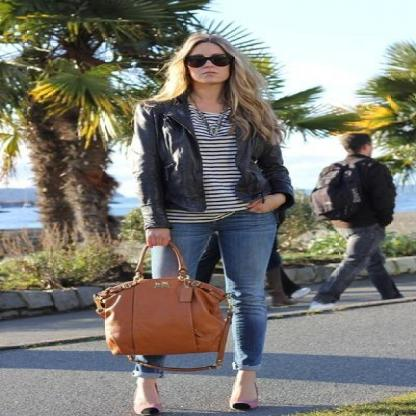bag: (92, 275, 231, 357)
jacket: (122, 96, 296, 224)
pants: (123, 208, 285, 374)
shirt: (167, 102, 240, 222)
shoe: (141, 403, 255, 415)
sunglass: (183, 41, 208, 75)
